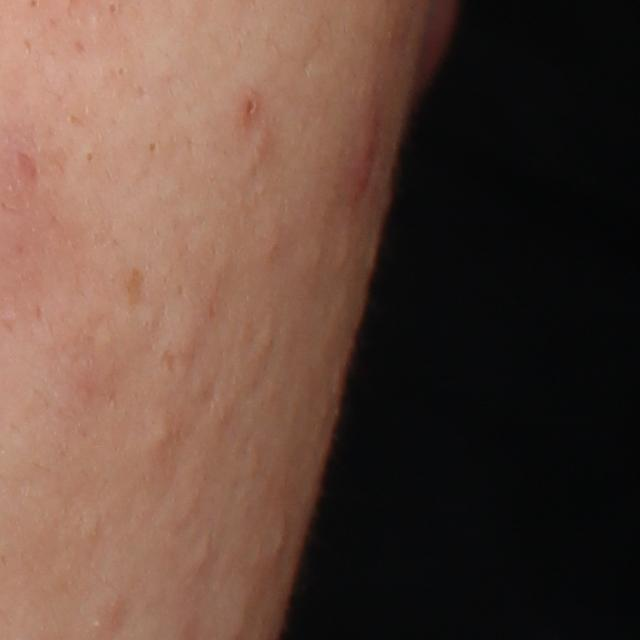atrophic_scar: (13, 147, 41, 185)
comedo: (143, 407, 178, 452), (191, 540, 216, 573)
papule: (344, 114, 382, 198), (237, 92, 264, 120)
